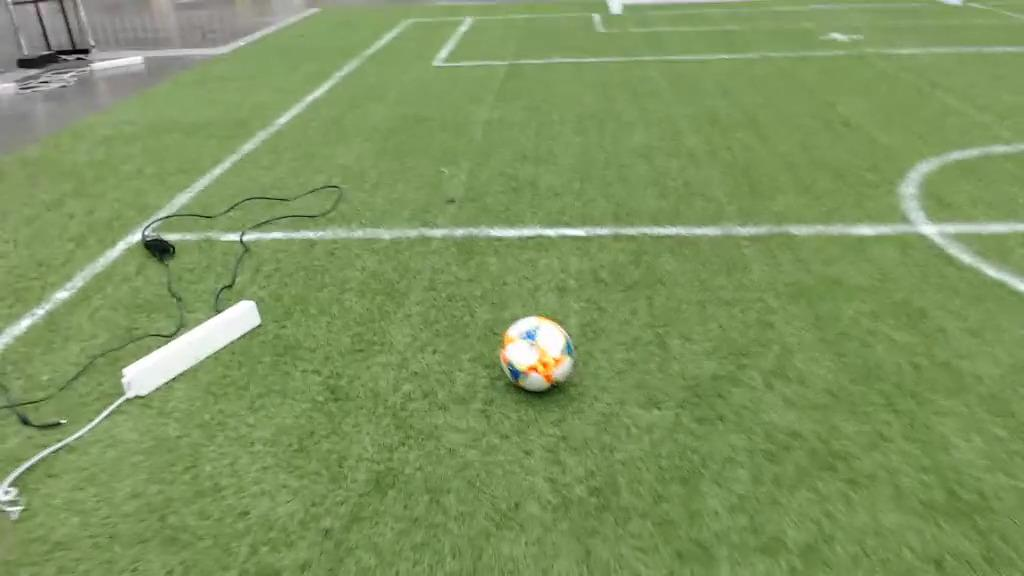ball: (500, 317, 574, 393)
